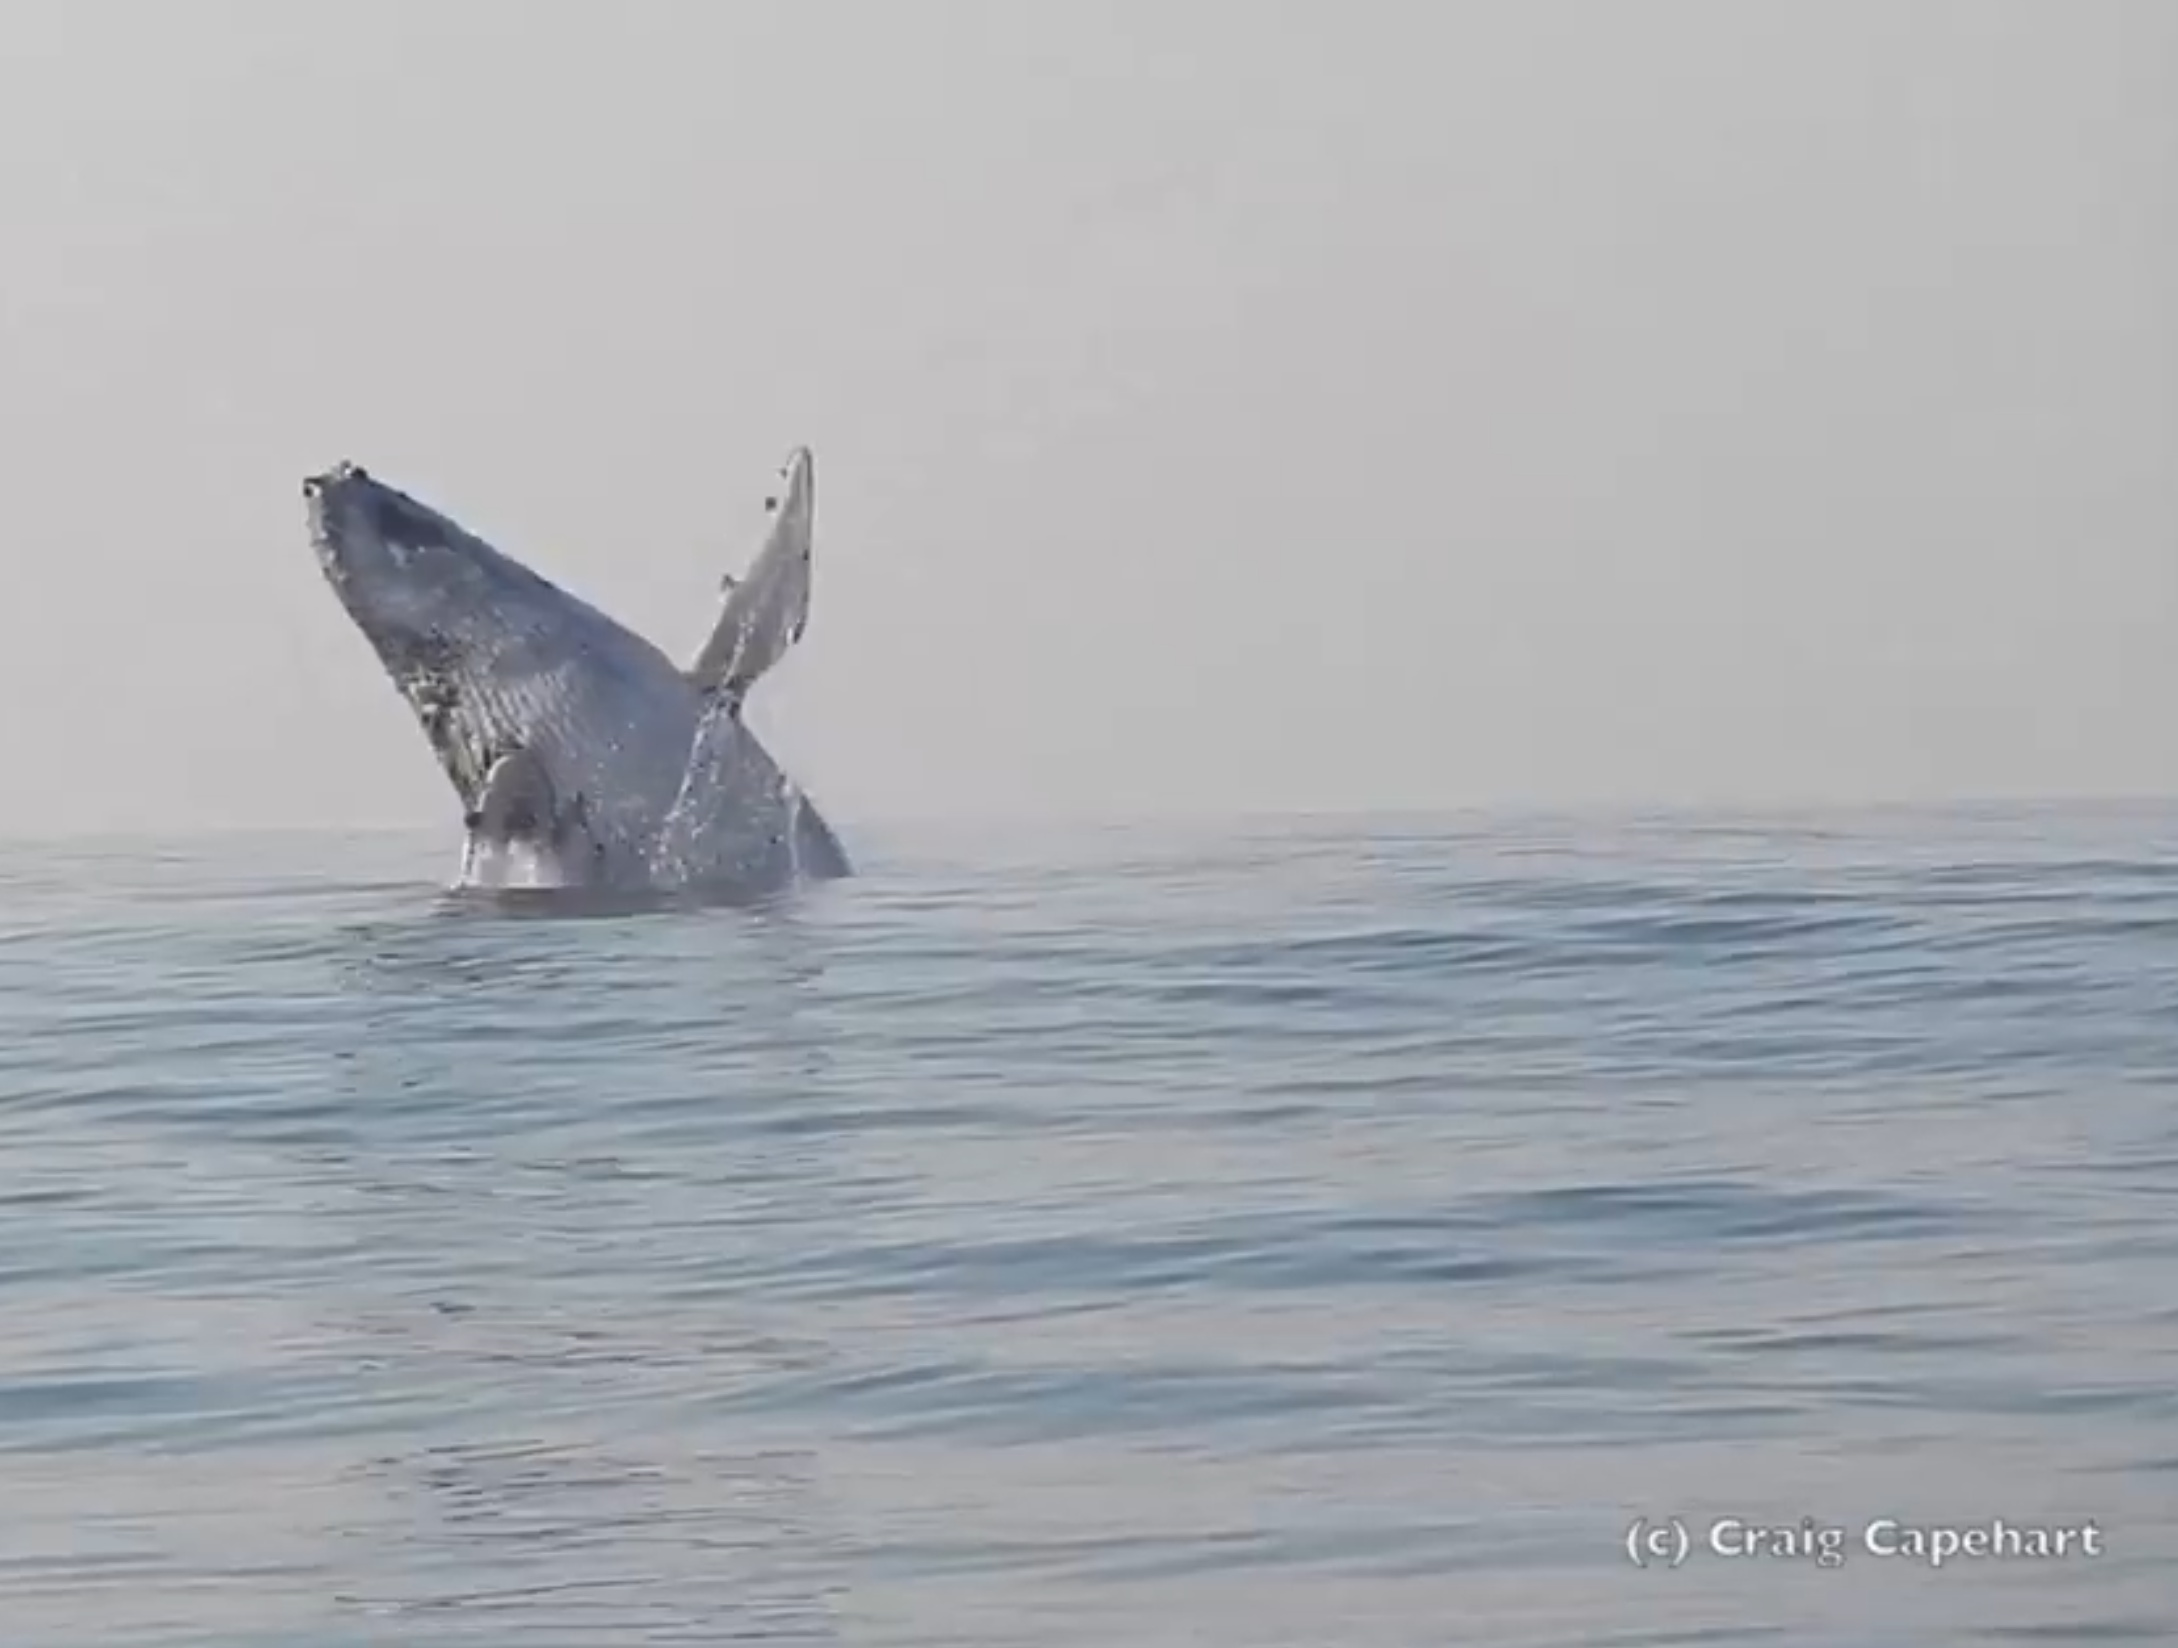humpback: (298, 454, 860, 885)
